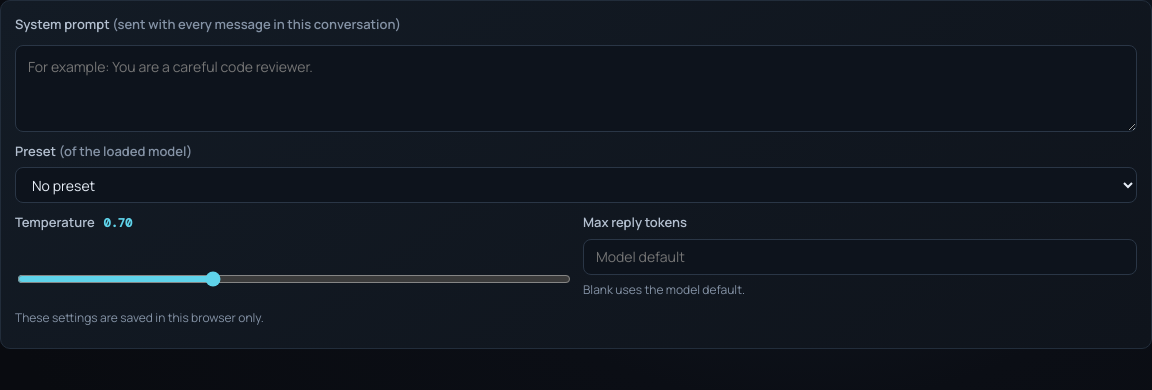
Test: ParamsPanel presets › copies a chosen preset's system prompt and temperature into the settings
Select "Review (default)" in the dropdown labelled "Preset (of the loaded model)" at (576, 185), box x1=15 y1=167 x2=1137 y2=203
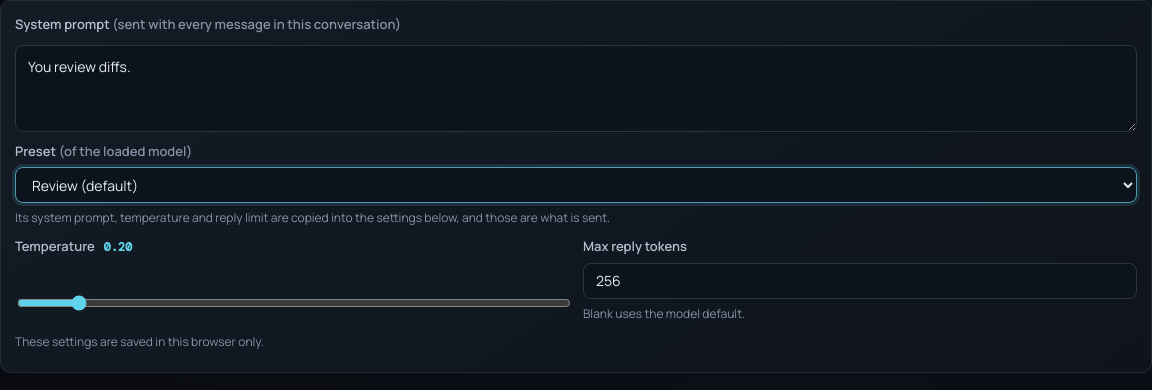
Check: the text "copied into the settings below" is shown, box x1=15 y1=209 x2=610 y2=226
